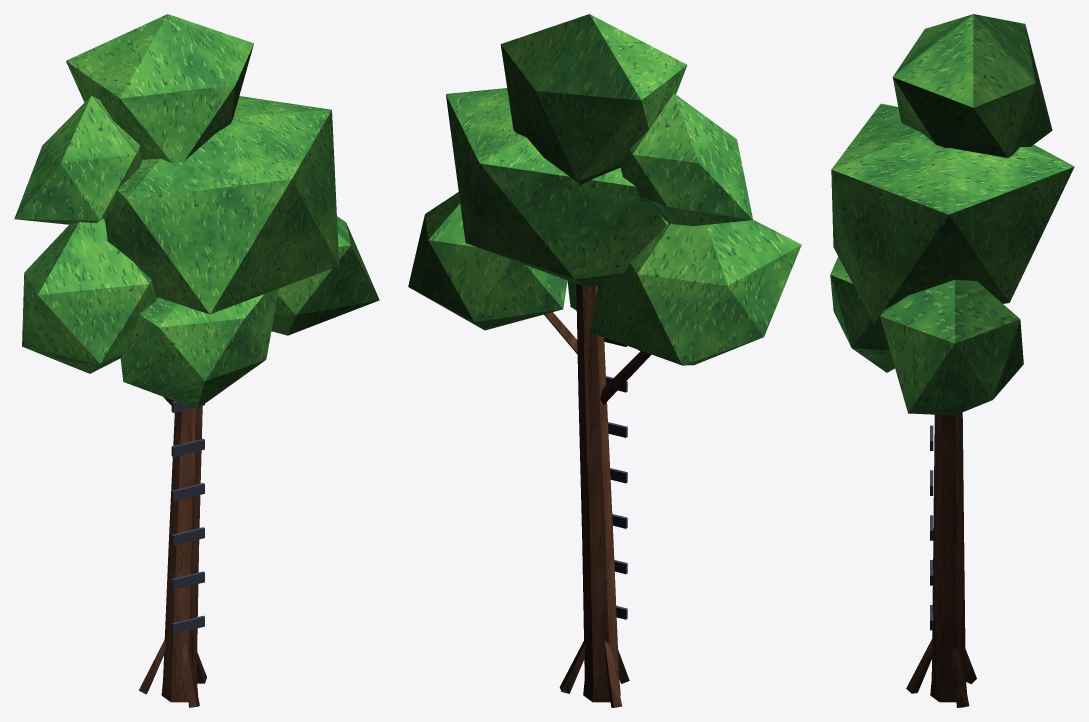
File: tree_birch.glb
The picture shows the model from 3 angles, left to right: view 1: azimuth 30°, elevation 25°; view 2: azimuth 150°, elevation 25°; view 3: azimuth 270°, elevation 25°; orthographic projection. The views are drawn at different scales.
Parts seen in each view (by area): view 1: tree_birch; view 2: tree_birch; view 3: tree_birch.
Part boxes in pixels (x1,y1,x2,y2): tree_birch: (14, 14, 379, 707); tree_birch: (408, 14, 801, 707); tree_birch: (830, 14, 1074, 707).
Bounding box in the file's own units: 1.32 × 2.43 × 0.7909.
5 materials, 5 textured.
